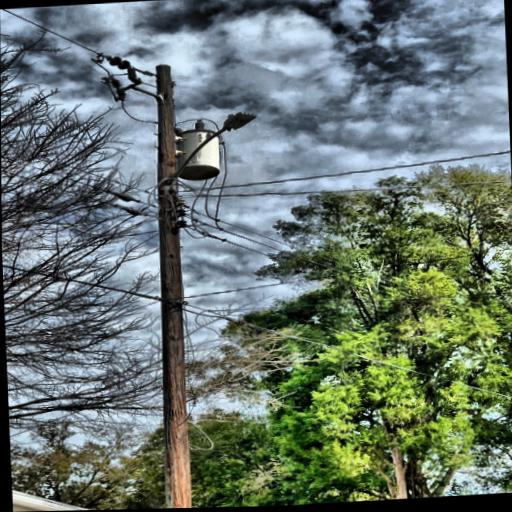pole: (139, 56, 199, 509)
street light: (160, 109, 260, 193)
transformer: (171, 126, 223, 180)
